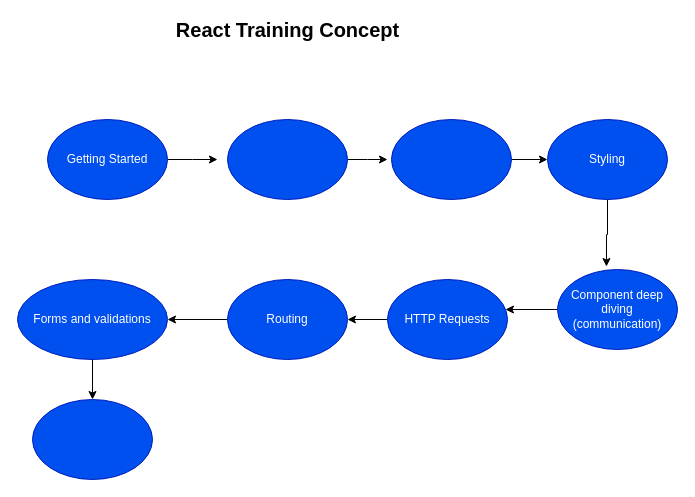
This 695x497 diagram has some shape labels left out. Each missing label, with the box of its shape:
Debugging: (390, 118, 512, 200)
Redux: (32, 398, 152, 480)
The Basics: (226, 118, 348, 200)
